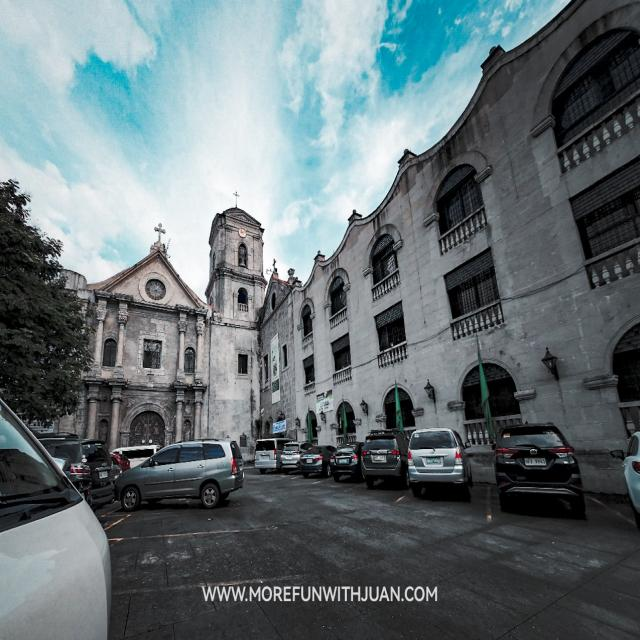San Agustin Church: (42, 179, 268, 470)
